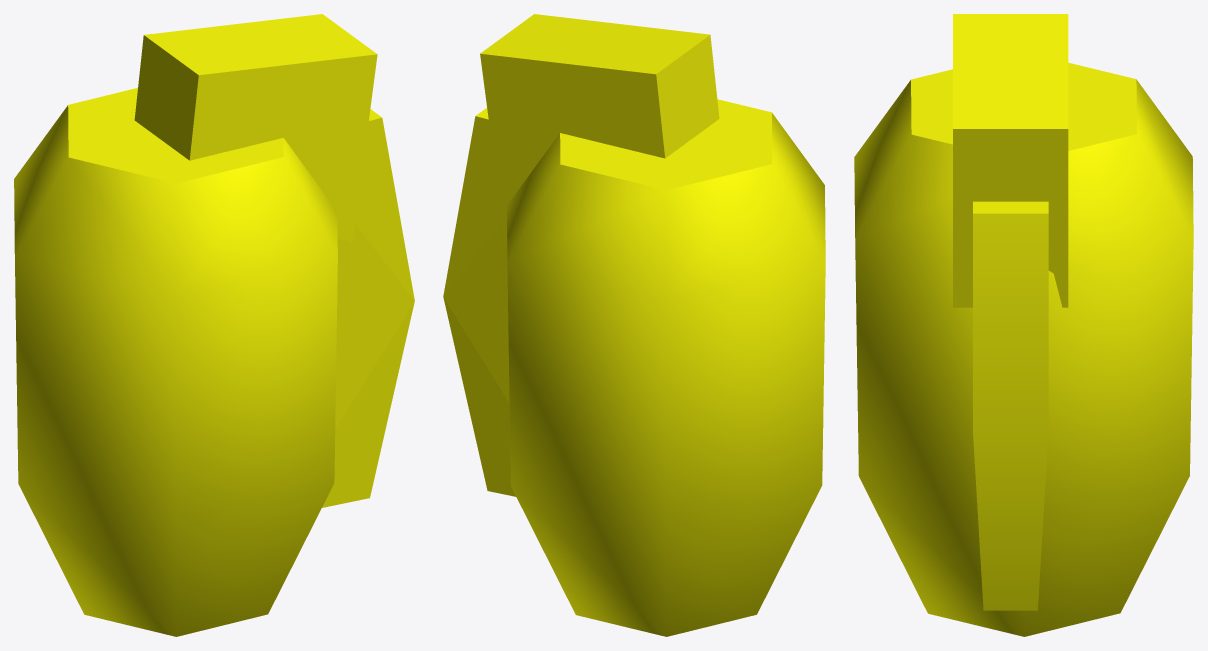
Rendered from projectile_grenade_british.glb.
3 renders of one model, left to right at view 1: azimuth 30°, elevation 25°; view 2: azimuth 150°, elevation 25°; view 3: azimuth 270°, elevation 25°, orthographic. The views are drawn at different scales.
Visible parts, largest first — view 1: projectile_grenade_british; view 2: projectile_grenade_british; view 3: projectile_grenade_british.
Part boxes in pixels (x1,y1,x2,y2): projectile_grenade_british: [14, 14, 414, 636]; projectile_grenade_british: [443, 14, 825, 636]; projectile_grenade_british: [854, 14, 1193, 636].
Bounding box in the file's own units: 0.2082 × 0.2879 × 0.1553.
1 material, 1 textured.
